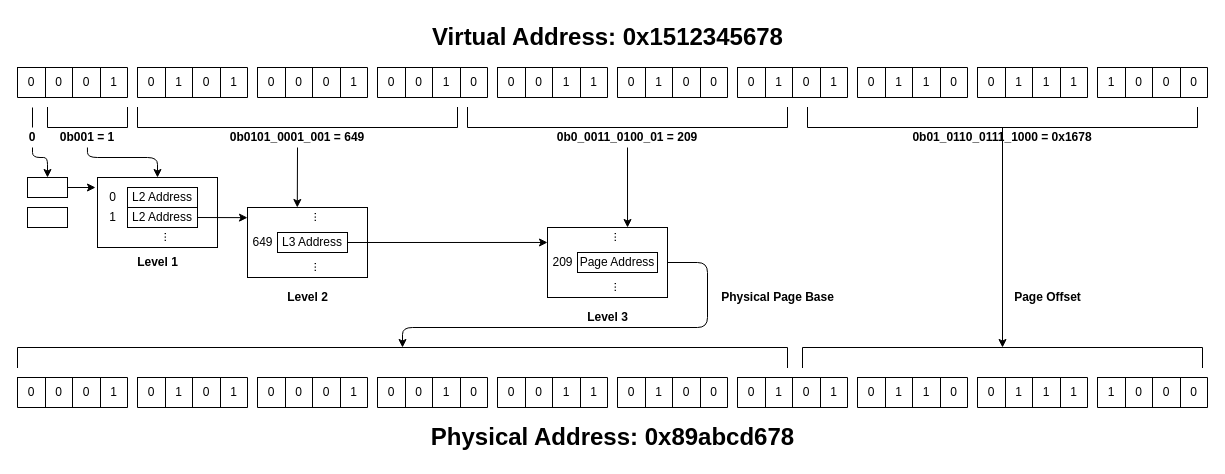
The diagram is 1225 pixels wide and 474 high, and some of its shapes have lost their labels. The shapes that lost their labels are listed below. From the top down, each one's centre as x and y in pixels, then its label:
At (x=47, y=187): "TTB0".
At (x=47, y=217): "TTB1".
